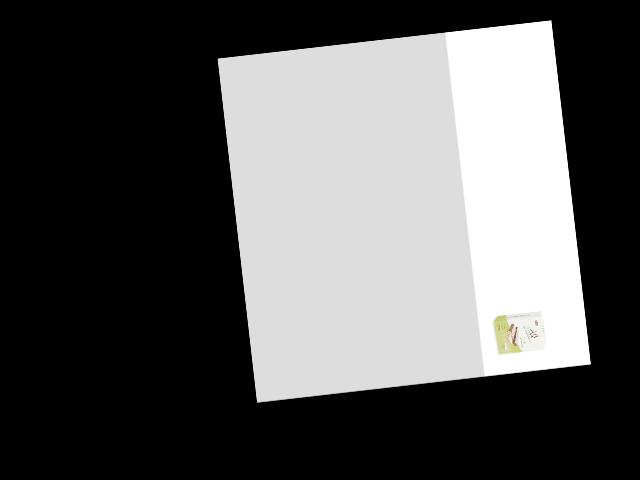chocolate: (491, 307, 547, 355)
